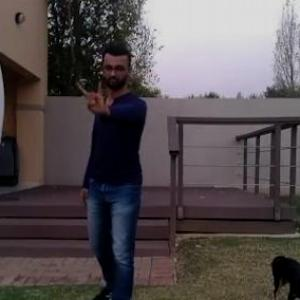takeoff-hand: (71, 71, 116, 118)
